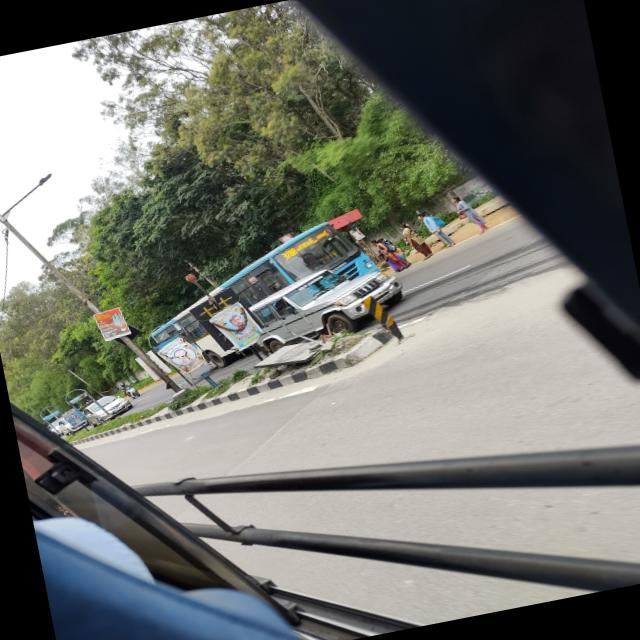bus: (104, 196, 433, 352)
display: (276, 228, 333, 262)
dnumber: (280, 247, 298, 260)
